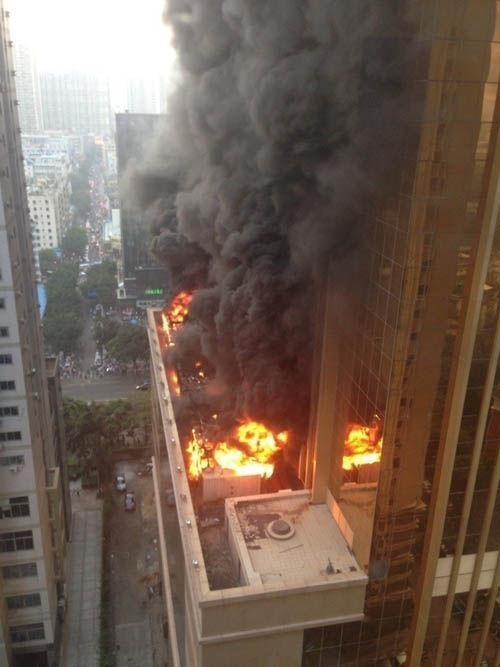fire: (183, 417, 289, 478), (340, 417, 384, 469), (159, 288, 192, 344), (168, 366, 181, 395)
